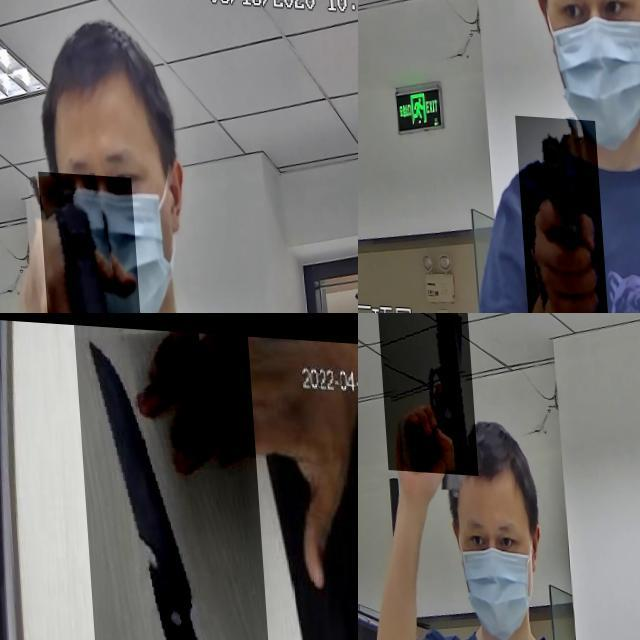-: (74, 321, 276, 640)
gun-knife-thesis - v11 Yolov5 augmented: (509, 111, 600, 313), (35, 168, 148, 313), (373, 313, 473, 473)
